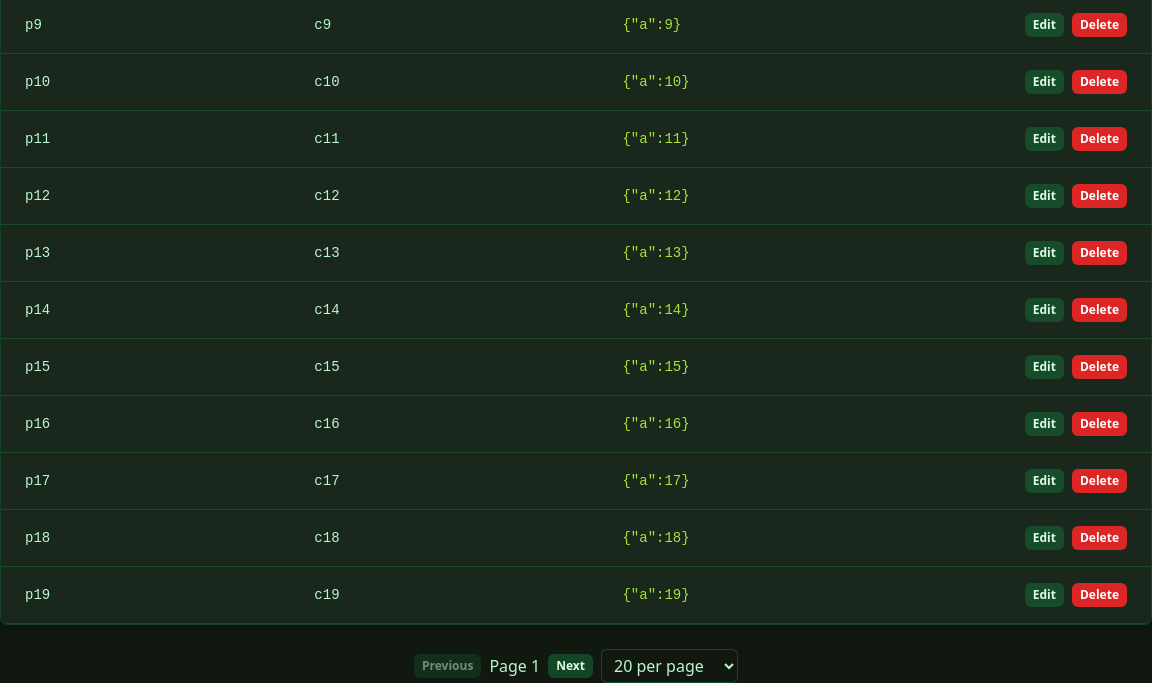
Scenario: DataBrowser › navigates pages to load different record slices
The width and height of the screenshot is (1152, 683).
(page scrolled)
Click the button "Next".
click(571, 666)  # box [548,654,593,678]
(page scrolled)
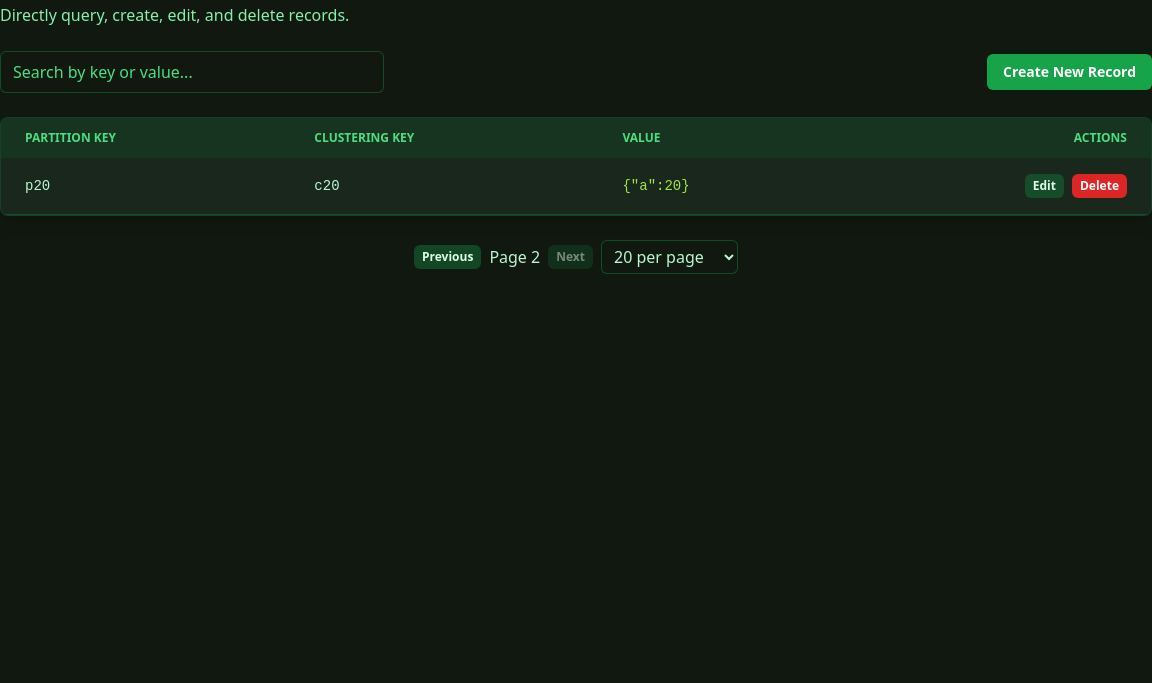
Expected: the text "p20" is shown, [1,158,290,214]
